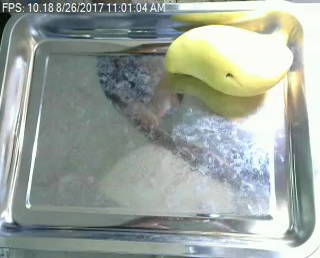Mango: (159, 20, 297, 101)
